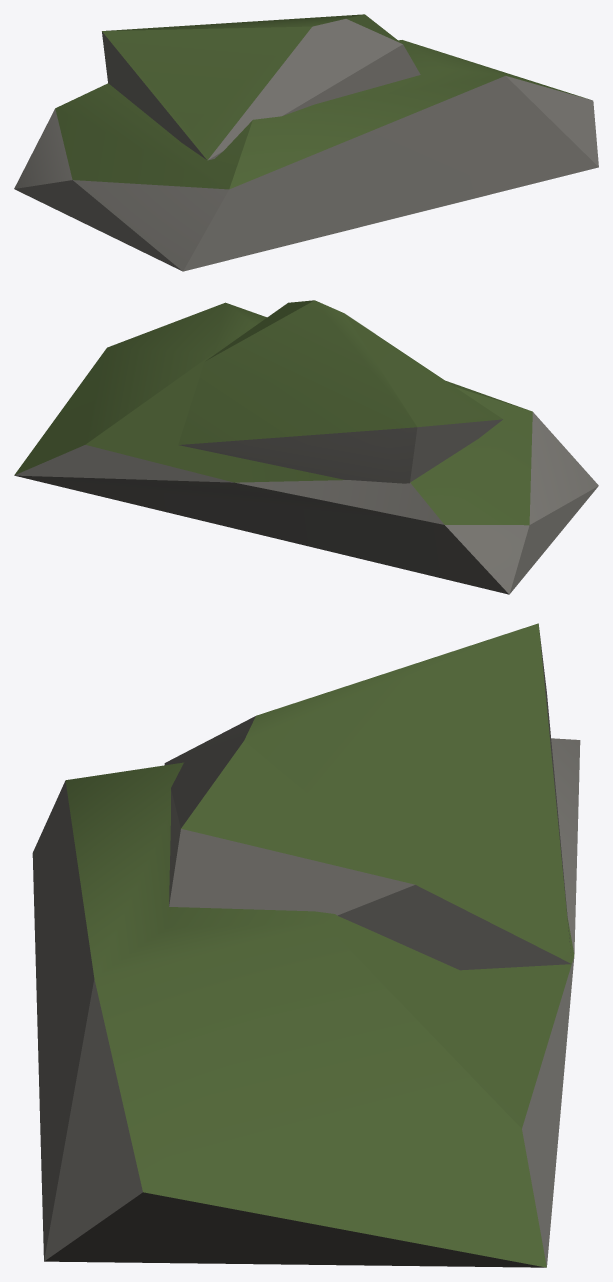
Rendered from RockLip.fbx.
3 renders of one model, top to bottom at view 1: azimuth 30°, elevation 25°; view 2: azimuth 150°, elevation 25°; view 3: azimuth 270°, elevation 25°, orthographic. The views are drawn at different scales.
Visible parts, largest first — view 1: RockLip; view 2: RockLip; view 3: RockLip.
Part boxes in pixels (x1,y1,x2,y2): RockLip: (14, 14, 598, 271); RockLip: (14, 300, 598, 594); RockLip: (32, 623, 580, 1267).
Bounding box in the file's own units: 2.41 × 0.7754 × 1.19.
